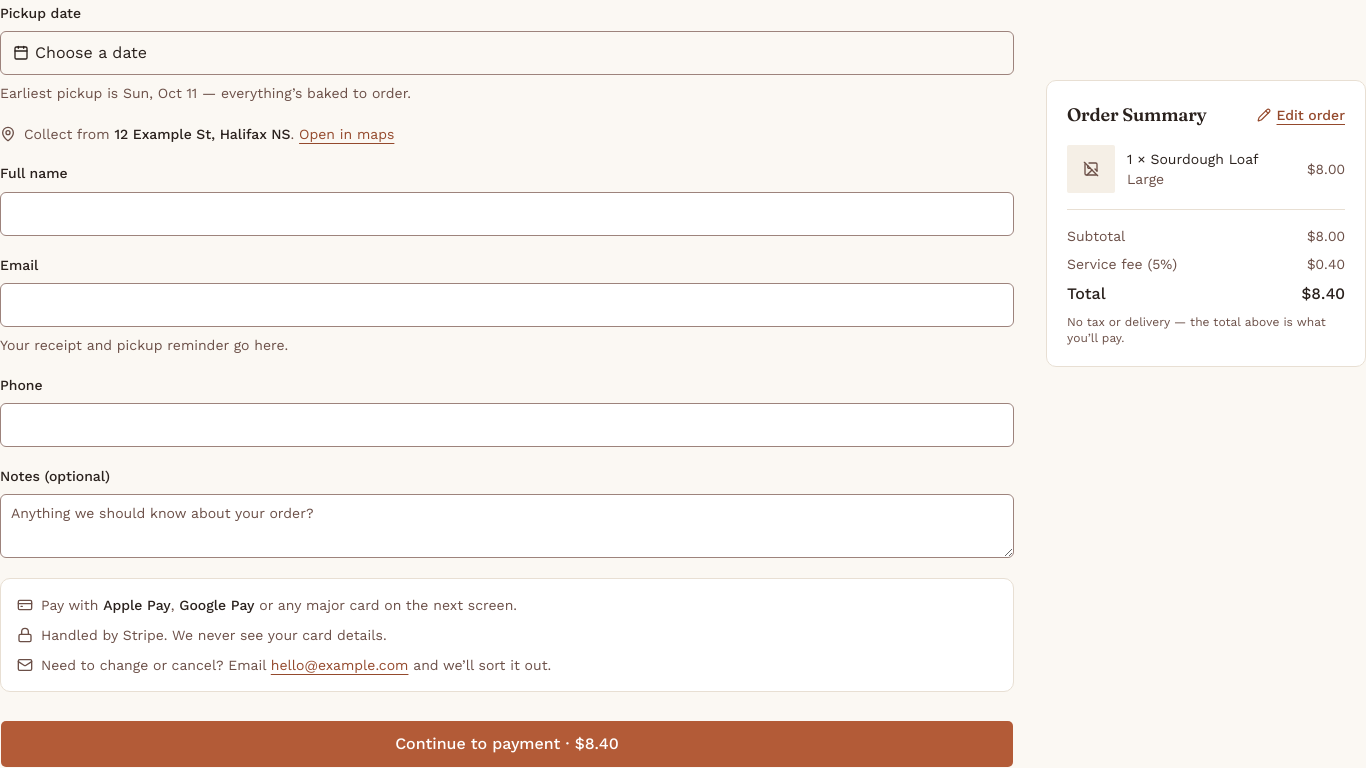
CheckoutForm error state › clears the pickup date error once a date is chosen
(page scrolled)
Click the button "Continue to payment · $8.40": click(507, 744) [0,720,1014,767]
(page scrolled)
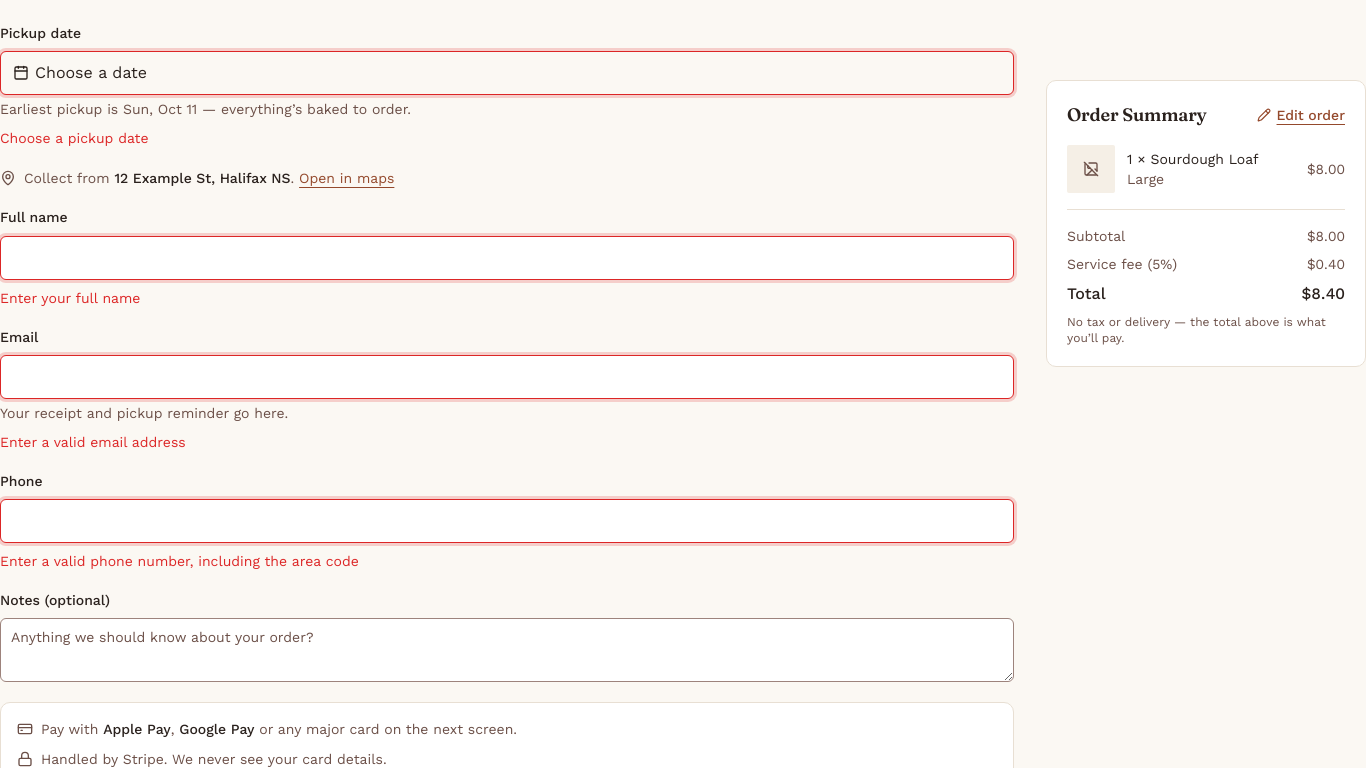
expect the text "Choose a pickup date" is shown: met, box [0,130,148,146]
Click the button named "pickup date": click(91, 73) [0,51,1014,95]
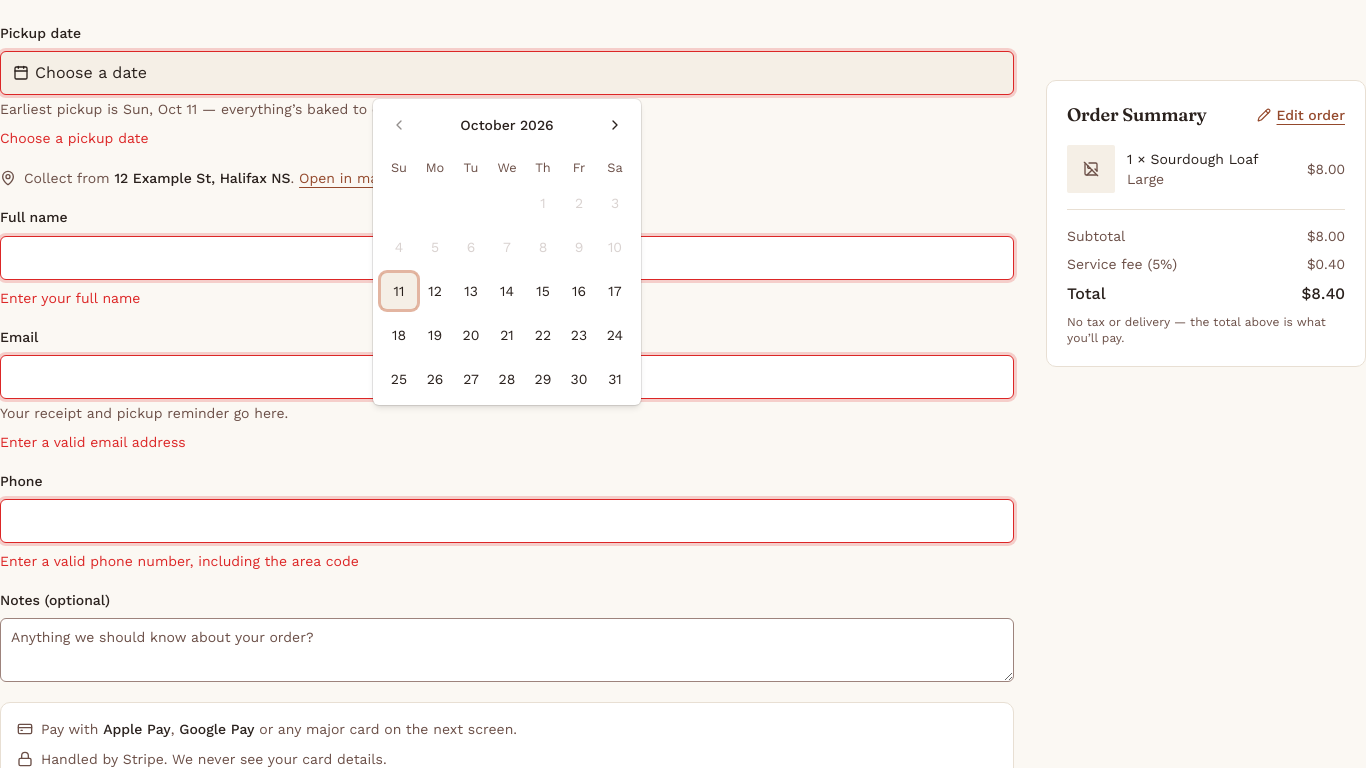
Click the button "11": click(399, 291) [381,273,417,309]
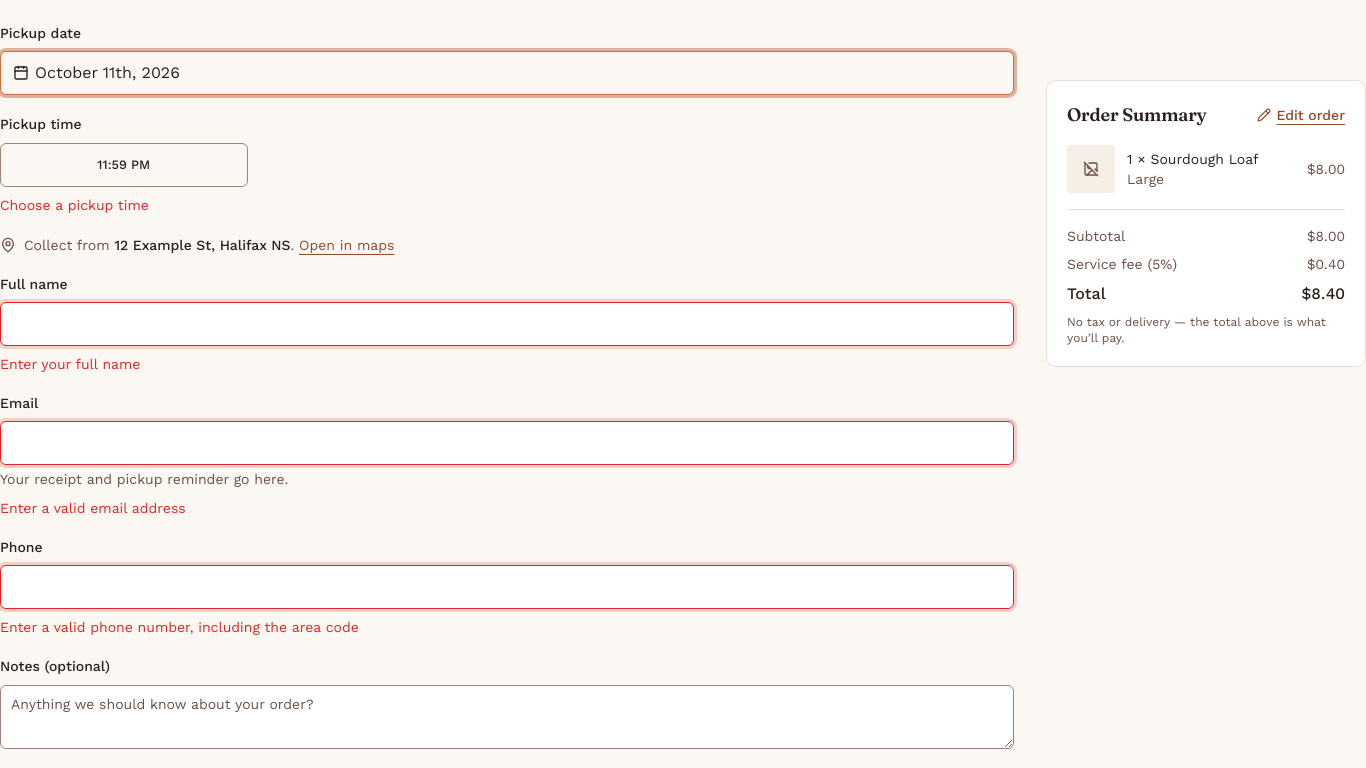
expect the text "Choose a pickup date" is gone: met
